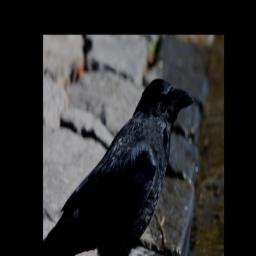Crow: (44, 77, 196, 256)
